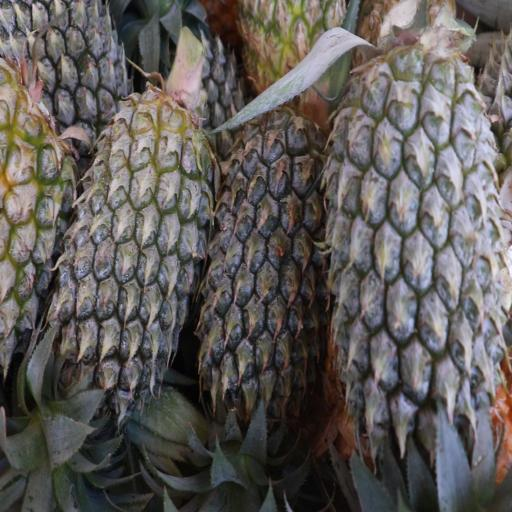------------------------------: (0, 84, 80, 366), (240, 0, 350, 113)
